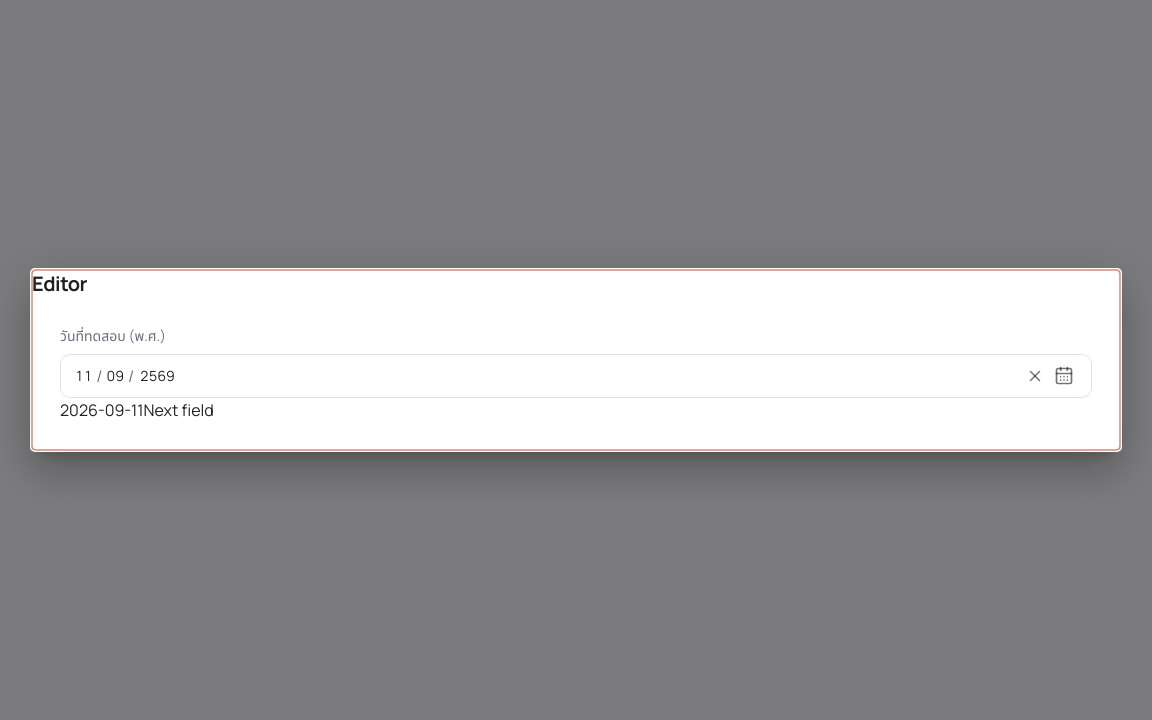
Test: Buddhist picker behavior › discards a mobile selection on Escape without closing its parent dialog
Click the button named "เปิดวันที่ทดสอบ": (1064, 376) x1=1049 y1=361 x2=1079 y2=391
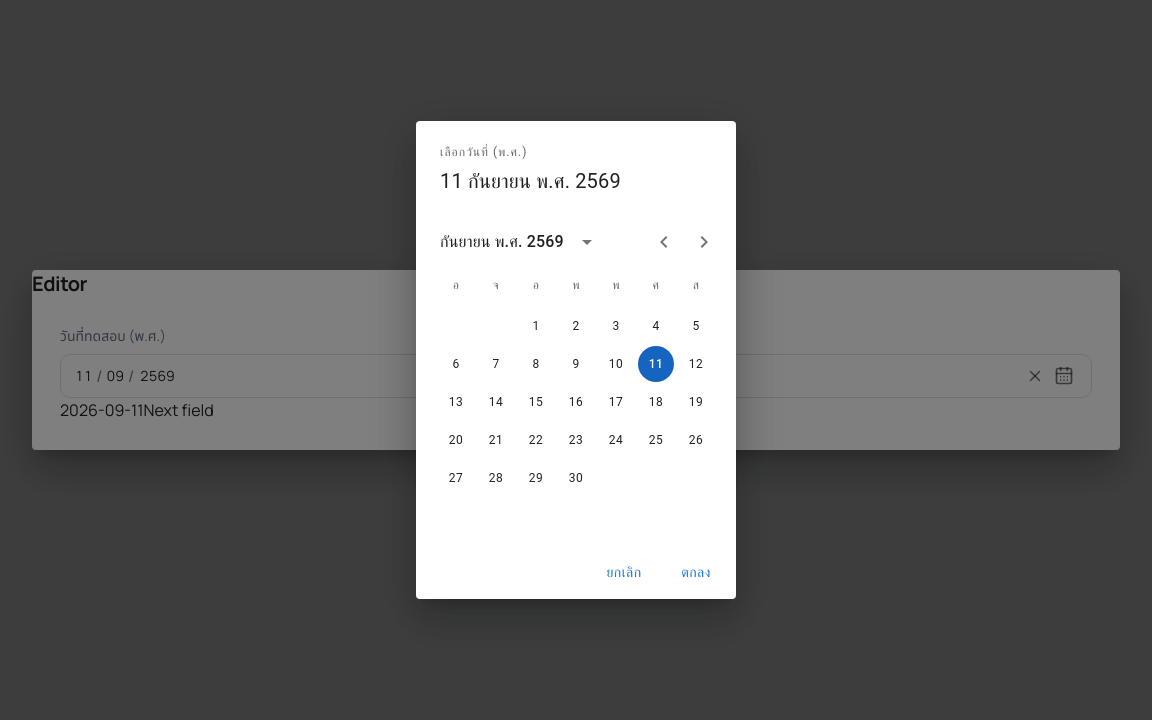
Click the cell "15": (536, 402) x1=518 y1=384 x2=554 y2=420
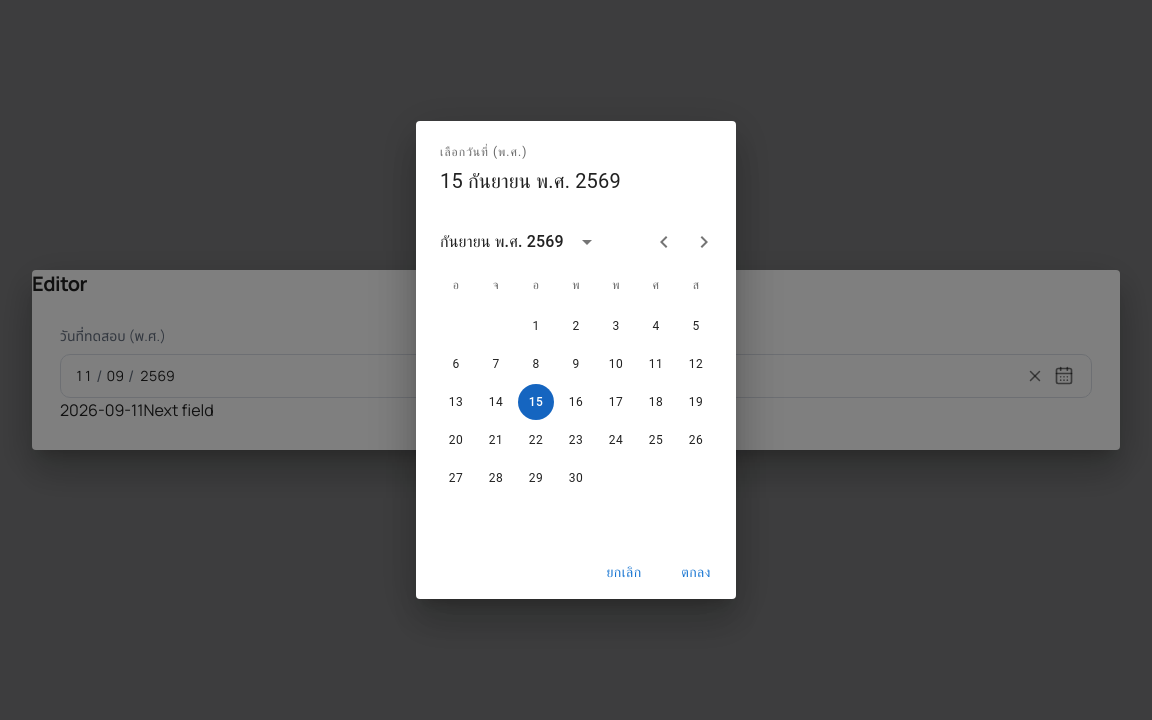
Press Escape
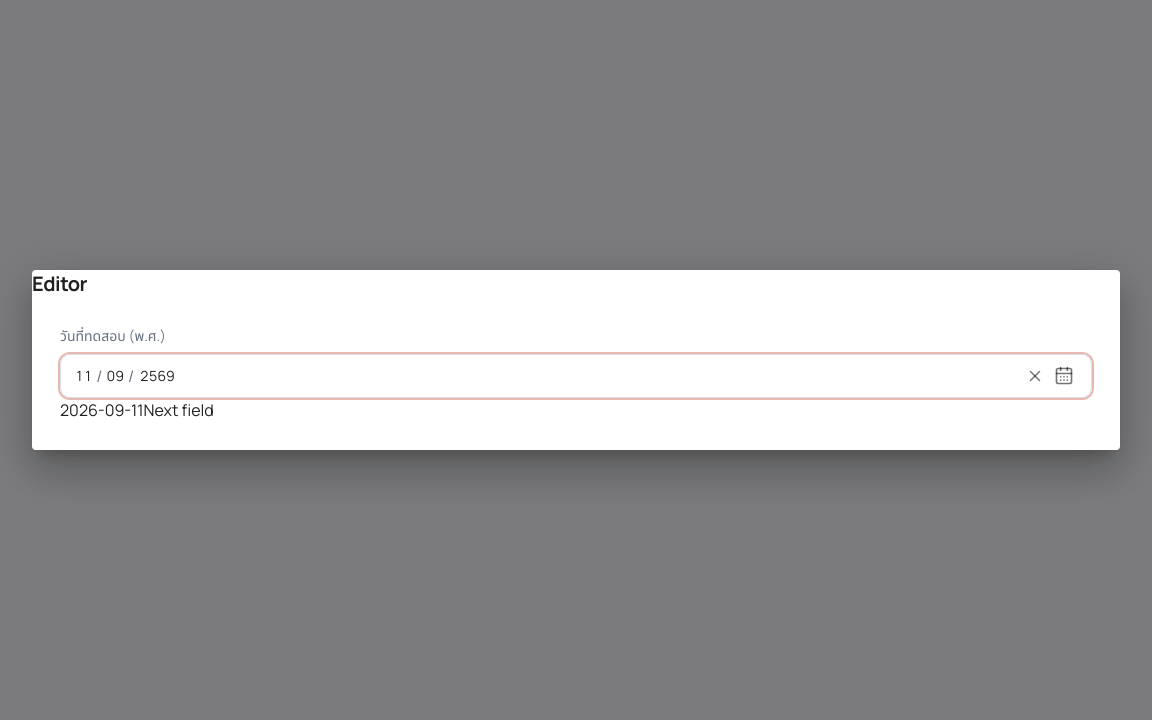
Now the number of dialogs is 1, box x1=32 y1=270 x2=1120 y2=450
